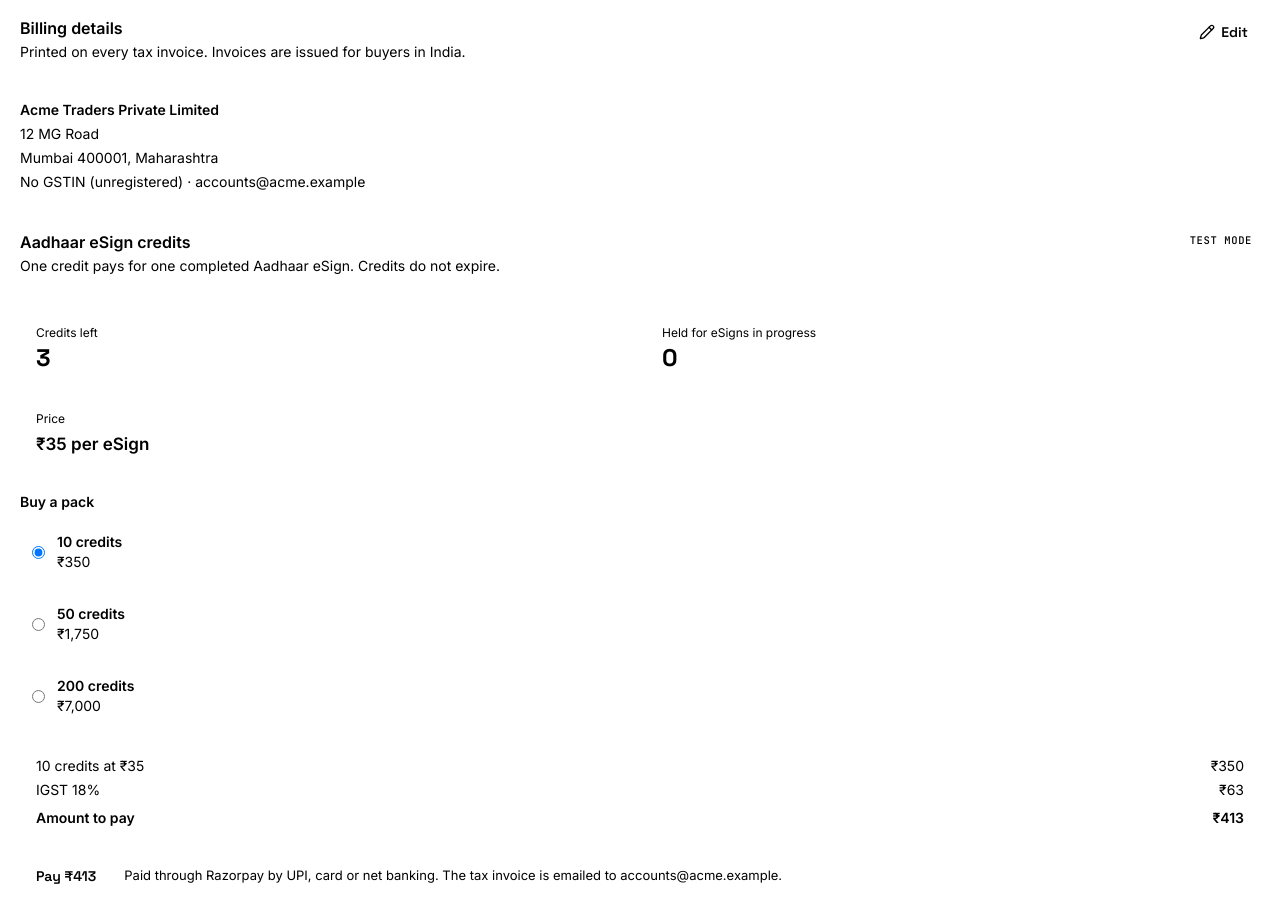
BillingPanel › shows the pack with GST worked out for the buyer state
Expected: the text with test id "credit-price" reads "₹35 per eSign", [36, 434, 149, 454]
Expected: the element with test id "pack-summary" shows "IGST 18%", [20, 744, 1260, 840]
Click the radio button labelled "50 credits ₹1,750": (38, 624) [32, 618, 45, 630]
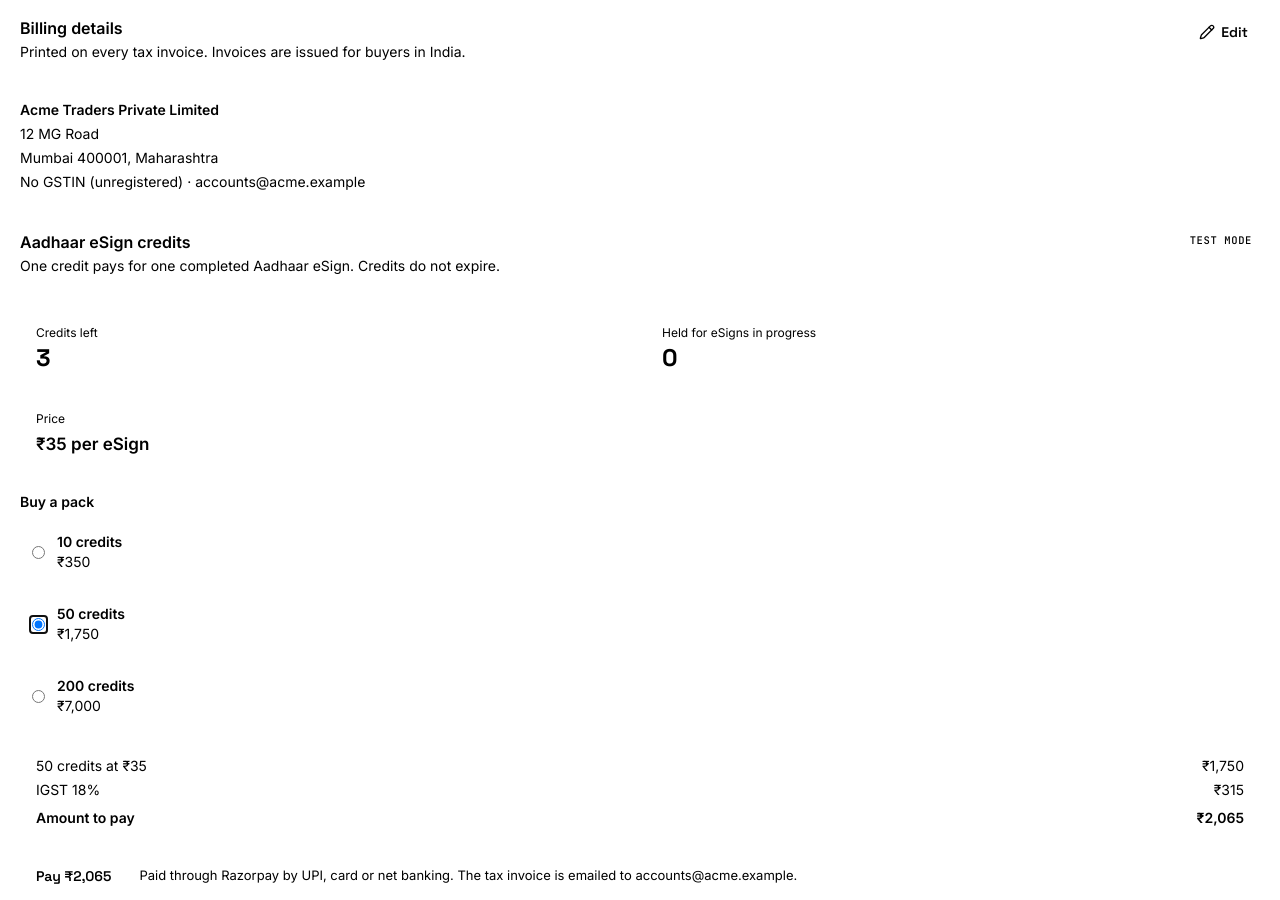
Now the text with test id "pack-total" reads "₹2,065", box [1197, 809, 1244, 826]
